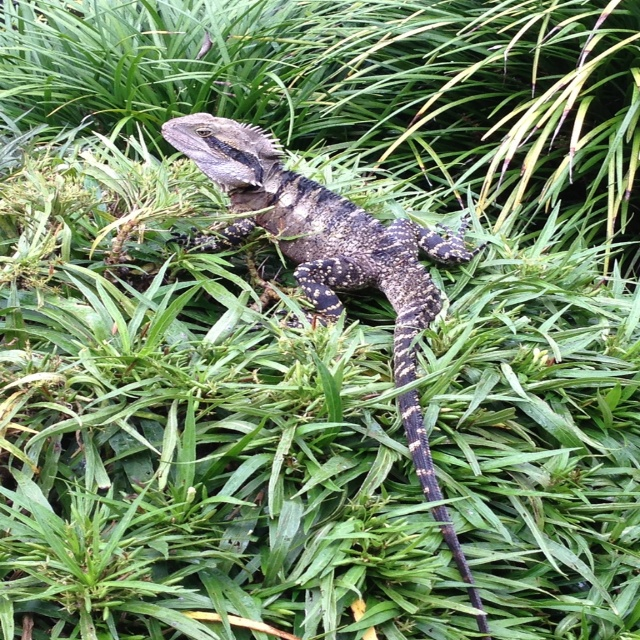Lizard: (162, 116, 486, 629)
